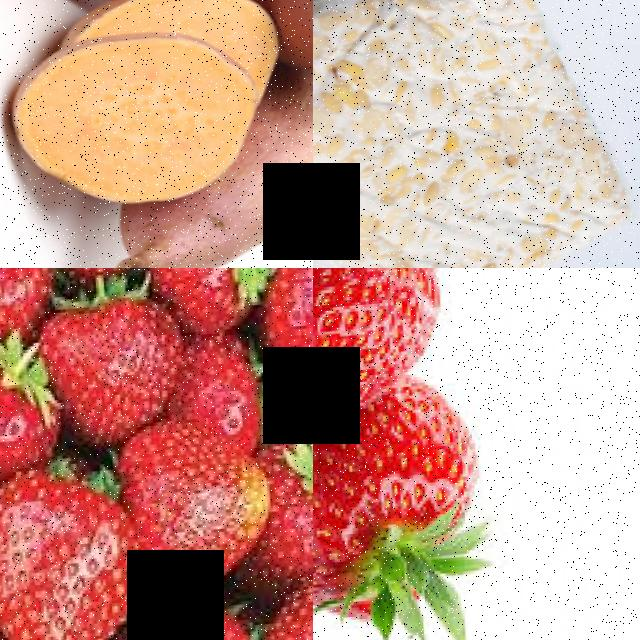strawberry: (313, 430, 504, 640), (121, 416, 275, 600), (0, 463, 137, 640), (39, 296, 188, 430), (313, 268, 453, 401), (145, 268, 284, 333), (256, 423, 313, 578), (0, 333, 57, 481), (115, 596, 285, 640), (0, 268, 57, 345)
sweet potato: (0, 25, 272, 212), (103, 185, 313, 268)
tempeh: (313, 133, 640, 268), (313, 0, 552, 165)
